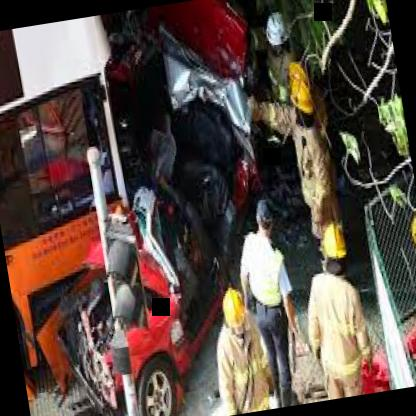accident: (0, 0, 309, 416)
